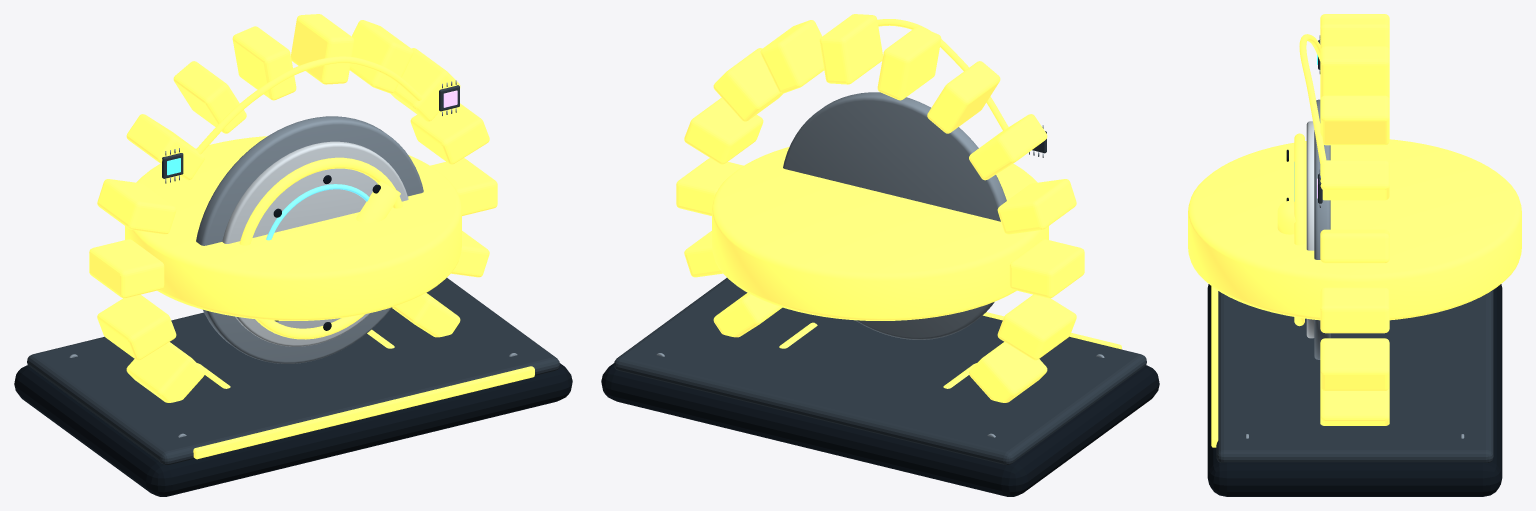
Rendered from Agreement.glb.
The picture shows the model from 3 angles, left to right: view 1: azimuth 30°, elevation 25°; view 2: azimuth 150°, elevation 25°; view 3: azimuth 270°, elevation 25°; orthographic projection.
Visible parts, largest first — view 1: Agreement_Base1, Agreement_Outer, Agreement_Base0, Agreement_Mid, Agreement_Face, Agreement_FrontGlow, Agreement_Tooth_10, Agreement_SealRing, Agreement_Tooth_9, Agreement_Tooth_4, Agreement_Tooth_8, Agreement_Tooth_5 (+12 smaller); view 2: Agreement_Base1, Agreement_Outer, Agreement_Mid, Agreement_Base0, Agreement_Tooth_4, Agreement_Tooth_10, Agreement_Tooth_9, Agreement_Tooth_5, Agreement_Tooth_3, Agreement_Tooth_1, Agreement_Tooth_8, Agreement_Tooth_11 (+7 smaller); view 3: Agreement_Outer, Agreement_Base1, Agreement_Base0, Agreement_Tooth_17, Agreement_Tooth_3, Agreement_Tooth_4, Agreement_Tooth_0, Agreement_Tooth_2, Agreement_Tooth_16, Agreement_Tooth_1, Agreement_Tooth_5, Agreement_Mid (+5 smaller).
Boxes of the visible parts, bbox=[...] form: Agreement_Base1: bbox=[27, 278, 559, 464]; Agreement_Outer: bbox=[125, 136, 461, 320]; Agreement_Base0: bbox=[14, 363, 572, 496]; Agreement_Mid: bbox=[196, 116, 423, 363]; Agreement_Face: bbox=[222, 141, 408, 346]; Agreement_FrontGlow: bbox=[193, 366, 534, 459]; Agreement_Tooth_10: bbox=[97, 294, 176, 360]; Agreement_SealRing: bbox=[239, 157, 402, 339]; Agreement_Tooth_9: bbox=[89, 239, 164, 298]; Agreement_Tooth_4: bbox=[291, 14, 354, 84]; Agreement_Tooth_8: bbox=[97, 179, 176, 234]; Agreement_Tooth_5: bbox=[232, 26, 296, 100]; Agreement_Base1: bbox=[614, 278, 1146, 464]; Agreement_Outer: bbox=[712, 147, 1048, 320]; Agreement_Mid: bbox=[783, 92, 1006, 339]; Agreement_Base0: bbox=[601, 363, 1159, 496]; Agreement_Tooth_4: bbox=[819, 14, 882, 84]; Agreement_Tooth_10: bbox=[997, 294, 1076, 360]; Agreement_Tooth_9: bbox=[1009, 239, 1084, 298]; Agreement_Tooth_5: bbox=[877, 26, 941, 100]; Agreement_Tooth_3: bbox=[760, 20, 824, 93]; Agreement_Tooth_1: bbox=[684, 97, 763, 164]; Agreement_Tooth_8: bbox=[997, 179, 1076, 234]; Agreement_Tooth_11: bbox=[969, 342, 1047, 402]; Agreement_Outer: bbox=[1188, 139, 1521, 320]; Agreement_Base1: bbox=[1216, 290, 1493, 462]; Agreement_Base0: bbox=[1207, 284, 1502, 496]; Agreement_Tooth_17: bbox=[1320, 338, 1389, 390]; Agreement_Tooth_3: bbox=[1320, 95, 1389, 145]; Agreement_Tooth_4: bbox=[1320, 46, 1389, 97]; Agreement_Tooth_0: bbox=[1320, 287, 1389, 333]; Agreement_Tooth_2: bbox=[1320, 160, 1389, 200]; Agreement_Tooth_16: bbox=[1320, 387, 1389, 425]; Agreement_Tooth_1: bbox=[1320, 229, 1389, 263]; Agreement_Tooth_5: bbox=[1320, 18, 1389, 49]; Agreement_Mid: bbox=[1314, 99, 1330, 359].
Bounding box in the file's own units: 2.24 × 1.98 × 1.54.
